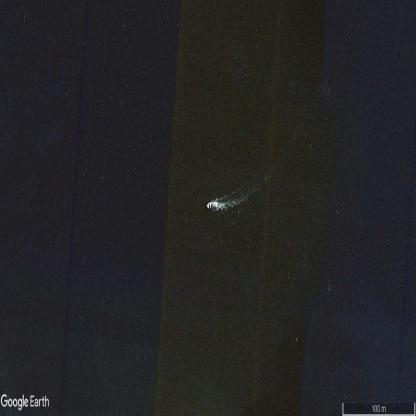ship: (207, 202, 219, 209)
